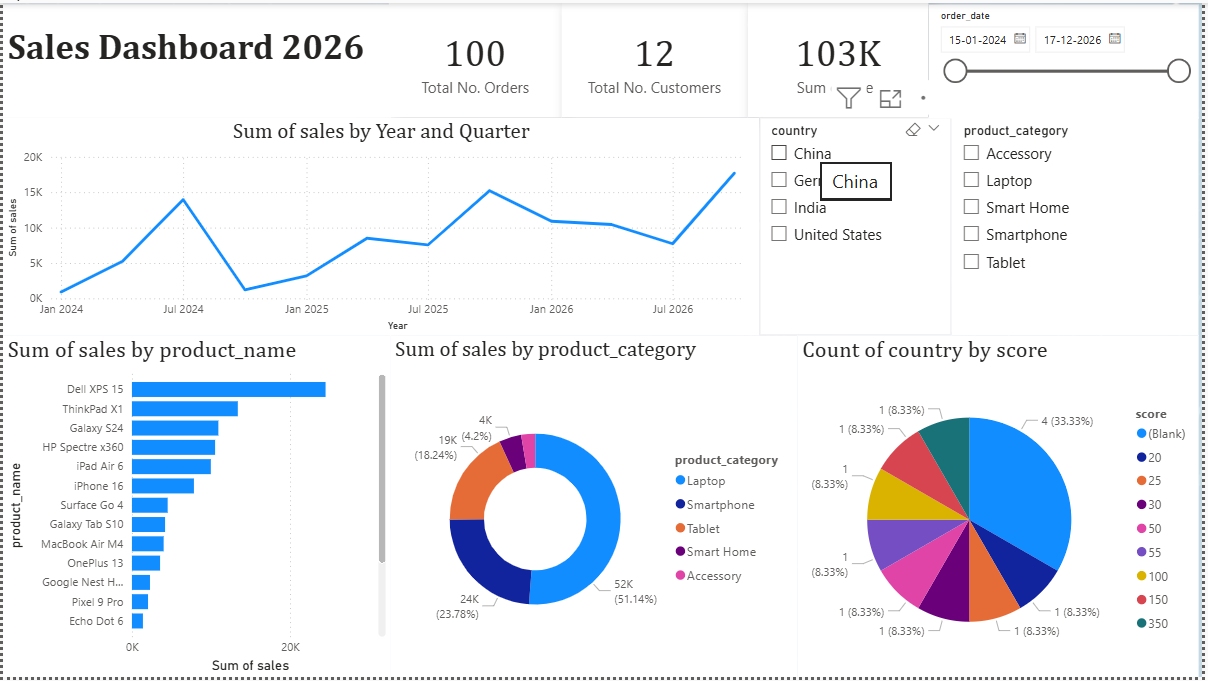

The page's visual inventory and layout, read from the dashboard file:
{"tool":"powerbi","page":{"name":"Page 1","canvas":[1280,720],"ordinal":0},"visuals":[{"type":"barChart","fields":{"Category":["orders.product_name"],"Y":["Sum(orders.sales)"]},"box":[0,354.9,413.5,364.7],"z":0},{"type":"donutChart","fields":{"Y":["Sum(orders.sales)"],"Category":["orders.product_category"]},"box":[413.5,354.9,434.7,364.7],"z":1000},{"type":"card","fields":{"Values":["CountNonNull(orders.order_id)"]},"box":[411.9,0,184,122.1],"z":2000},{"type":"card","fields":{"Values":["Count(orders.customer_id)"]},"box":[595.9,0,198.6,122.1],"z":3000},{"type":"card","fields":{"Values":["Sum(orders.sales)"]},"box":[794.5,0,193.7,122.1],"z":4000},{"type":"lineChart","fields":{"Category":["orders.order_date.Variation.Date Hierarchy.Year","orders.order_date.Variation.Date Hierarchy.Quarter","orders.order_date.Variation.Date Hierarchy.Month","orders.order_date.Variation.Date Hierarchy.Day"],"Y":["Sum(orders.sales)"]},"box":[0,122.1,807.5,232.8],"z":5000},{"type":"slicer","fields":{"Values":["customers.country"]},"box":[807.5,122.1,205.1,232.8],"z":6000},{"type":"slicer","fields":{"Values":["orders.product_category"]},"box":[1012.6,122.1,263.7,232.8],"z":7000},{"type":"slicer","fields":{"Values":["orders.order_date"]},"box":[988.2,1.6,288.2,120.5],"z":8000},{"type":"textbox","box":[0,1.6,413.5,120.5],"z":9000},{"type":"pieChart","fields":{"Y":["CountNonNull(customers.country)"],"Category":["customers.score","customers.state"]},"box":[848.2,354.9,428.2,364.7],"z":10000}]}

Visuals, with their boxes in screenshot pixels (x1, y1, x2, y2), scaled from the page's 1280x720 canvas onto the 1208x681 screenshot:
barChart - orders.product_name x Sum(orders.sales): (left=0, top=336, right=390, bottom=680)
donutChart - Sum(orders.sales) x orders.product_category: (left=390, top=336, right=800, bottom=680)
card - CountNonNull(orders.order_id): (left=389, top=0, right=562, bottom=115)
card - Count(orders.customer_id): (left=562, top=0, right=750, bottom=115)
card - Sum(orders.sales): (left=750, top=0, right=933, bottom=115)
lineChart - orders.order_date.Variation.Date Hierarchy.Year x orders.order_date.Variation.Date Hierarchy.Quarter: (left=0, top=115, right=762, bottom=336)
slicer - customers.country: (left=762, top=115, right=956, bottom=336)
slicer - orders.product_category: (left=956, top=115, right=1205, bottom=336)
slicer - orders.order_date: (left=933, top=2, right=1205, bottom=115)
textbox: (left=0, top=2, right=390, bottom=115)
pieChart - CountNonNull(customers.country) x customers.score: (left=800, top=336, right=1205, bottom=680)
